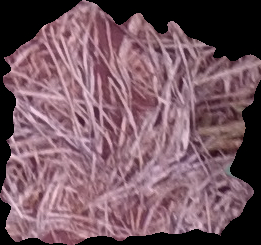soil: (2, 2, 260, 242)
